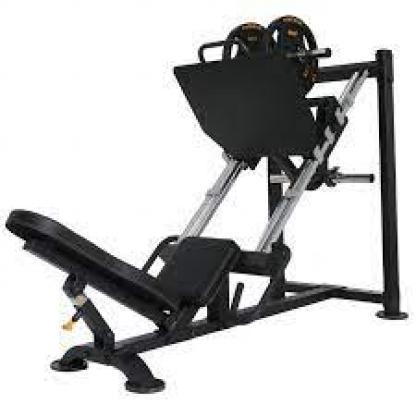leg press: (5, 15, 416, 394)
